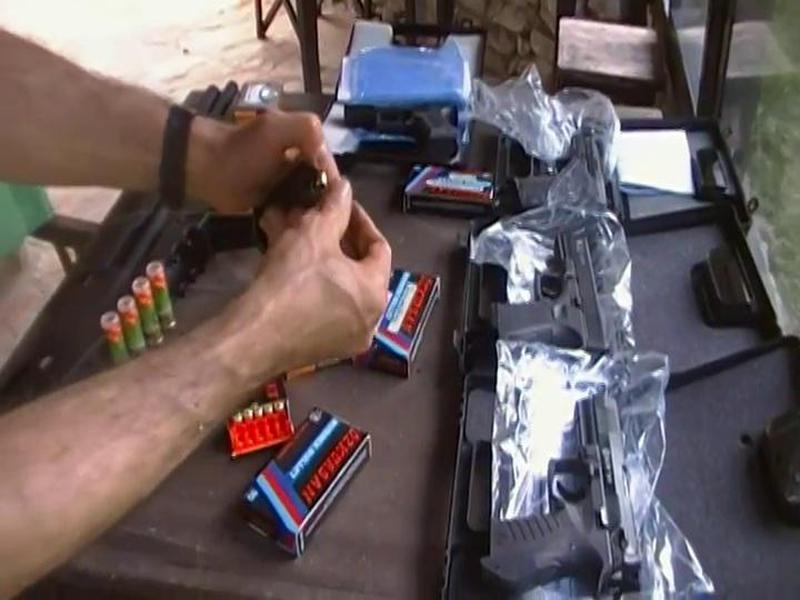Pistola: (455, 387, 664, 600), (479, 222, 627, 365)
